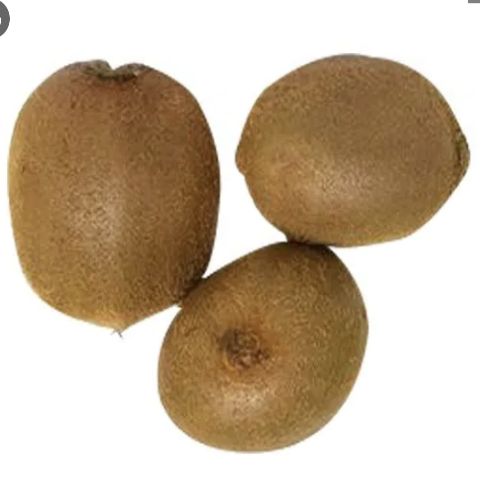kiwi: (0, 34, 231, 353), (141, 223, 392, 471), (223, 29, 469, 247)
